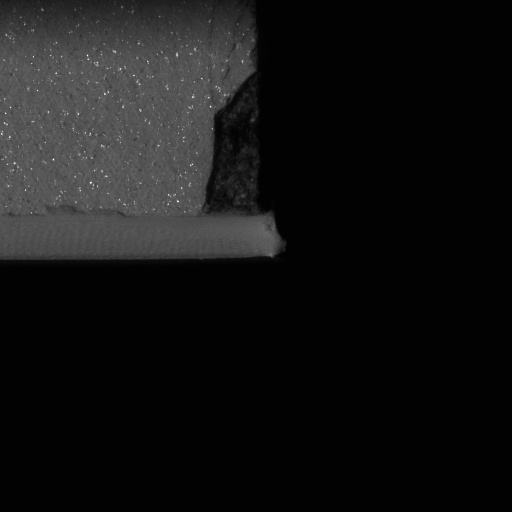bengque: (202, 74, 262, 216)
